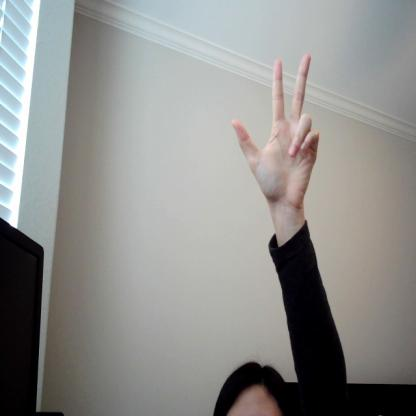three: (227, 50, 324, 216)
